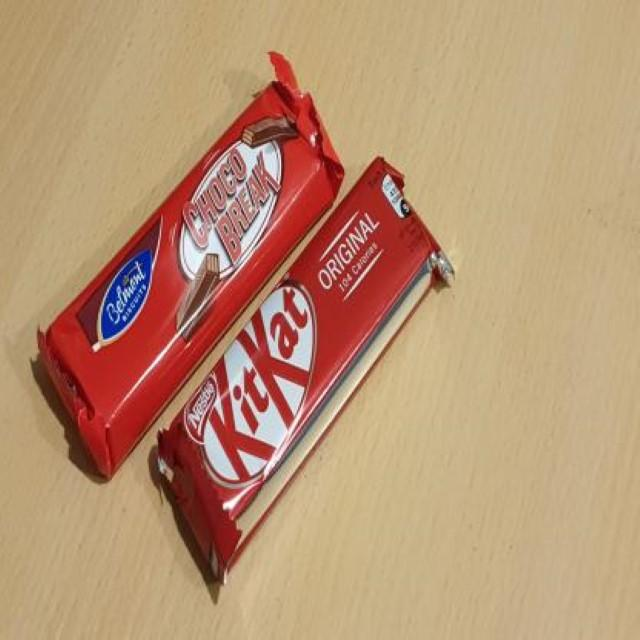kitkat_chocolate: (92, 28, 308, 485), (212, 153, 413, 565)
